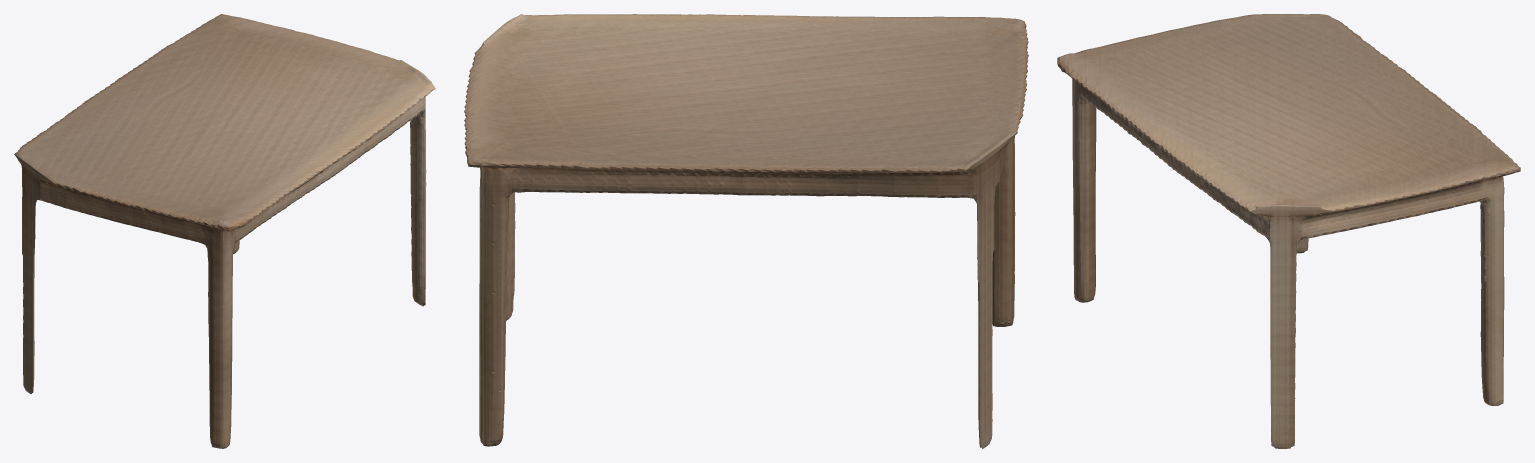
3 renders of one model, left to right at view 1: azimuth 30°, elevation 25°; view 2: azimuth 150°, elevation 25°; view 3: azimuth 270°, elevation 25°, orthographic. The views are drawn at different scales.
Visible parts, largest first — view 1: input.obj; view 2: input.obj; view 3: input.obj.
Boxes of the visible parts, bbox=[...] form: input.obj: bbox=[14, 14, 435, 448]; input.obj: bbox=[464, 14, 1028, 448]; input.obj: bbox=[1057, 14, 1520, 448].
Bounding box in the file's own units: 1.72 × 1 × 1.72.
Materials: 1 (1 with a texture image).
